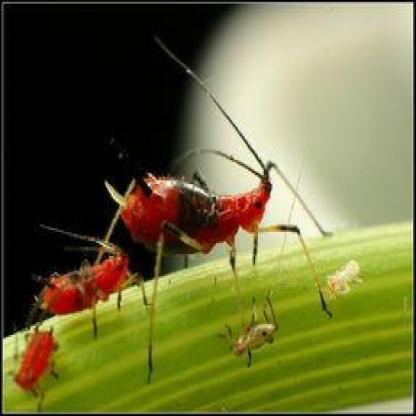aphid: (92, 58, 320, 274), (35, 238, 157, 326), (5, 300, 77, 408), (216, 285, 289, 374)
